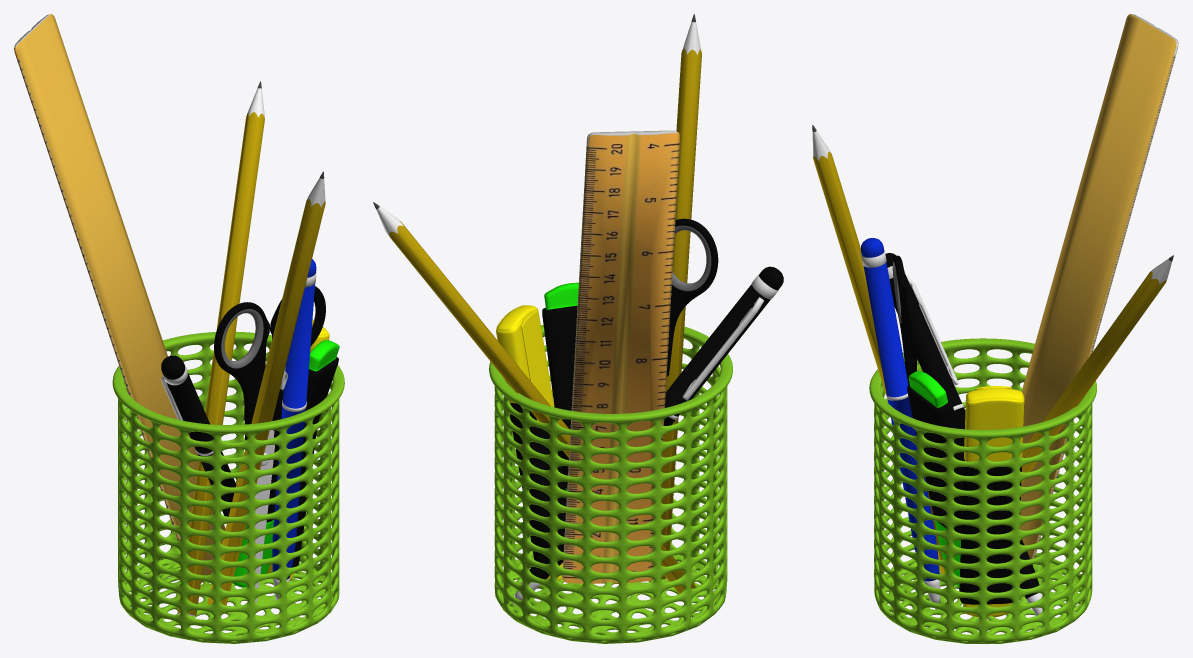
The model's file is Utiles.glb.
3 renders of one model, left to right at view 1: azimuth 30°, elevation 25°; view 2: azimuth 150°, elevation 25°; view 3: azimuth 270°, elevation 25°, orthographic. The views are drawn at different scales.
Parts seen in each view (by area): view 1: pengolder, ruler, PENCIL2, PENCIL, scisors, BLUE PEN, BLACK PEN, marker, marker yelow; view 2: pengolder, ruler, PENCIL, PENCIL2, marker yelow, BLACK PEN, marker, scisors; view 3: pengolder, ruler, marker yelow, BLUE PEN, PENCIL2, PENCIL, marker, BLACK PEN, scisors.
Boxes of the visible parts, x1,y1,x2,y2 form: pengolder: (112,331,344,643); ruler: (14,14,225,582); PENCIL2: (177,81,264,616); PENCIL: (207,171,325,605); scisors: (214,286,325,602); BLUE PEN: (272,259,316,600); BLACK PEN: (161,355,236,516); marker: (232,340,339,587); marker yelow: (266,320,329,580); pengolder: (489,324,732,643); ruler: (562,130,679,583); PENCIL: (661,14,701,579); PENCIL2: (373,202,695,593); marker yelow: (496,305,566,581); BLACK PEN: (512,266,783,604); marker: (542,282,578,490); scisors: (666,218,718,376); pengolder: (869,338,1096,643); ruler: (1020,14,1178,564); marker yelow: (959,386,1024,617); BLUE PEN: (860,238,940,609); PENCIL2: (1021,255,1173,484); PENCIL: (812,125,945,574); marker: (907,371,963,586); BLACK PEN: (885,253,1042,623); scisors: (892,255,918,384).
Size of the model in its own units: 2.21 by 4.2 by 2.66.
13 materials, 1 textured.
